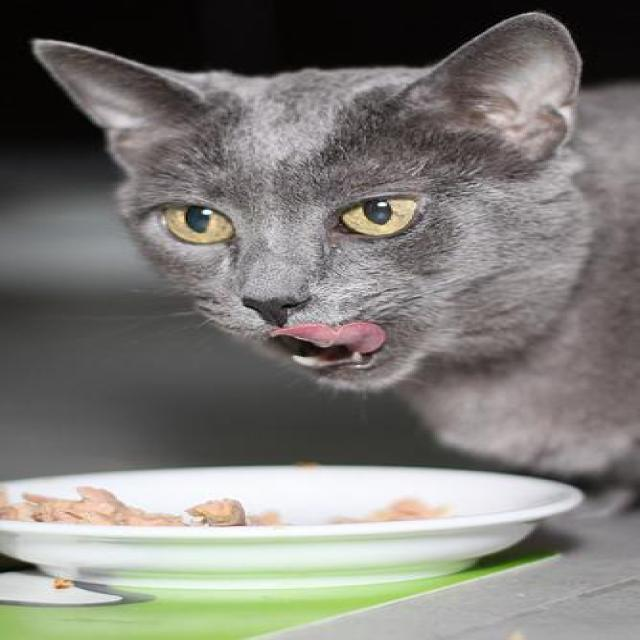cat: (30, 10, 640, 490)
